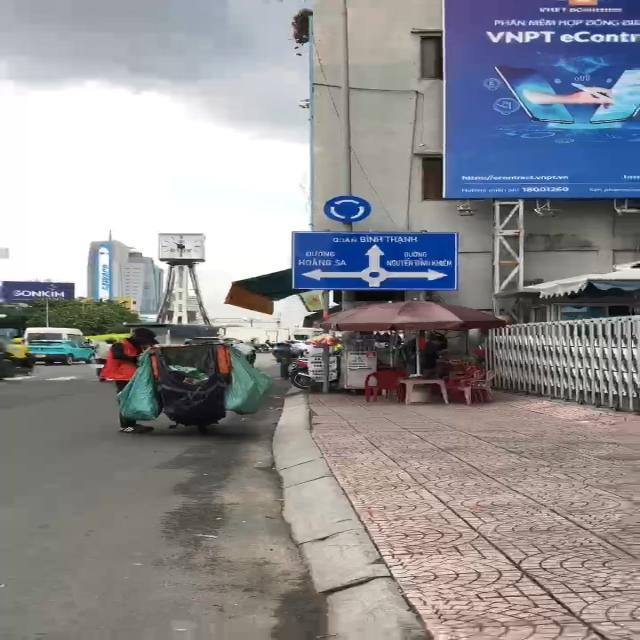Bien bao noi giao nhau chay theo vong xuyen: (321, 194, 374, 228)
